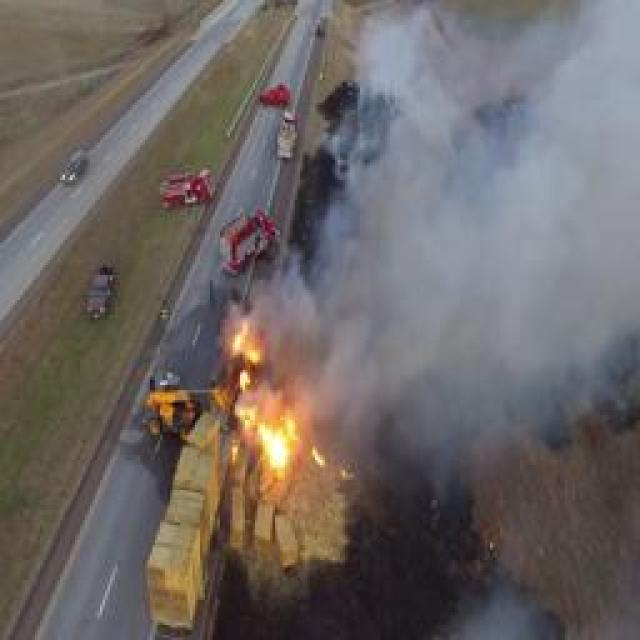Fire: (215, 317, 324, 492)
Smoke: (364, 30, 613, 408)
